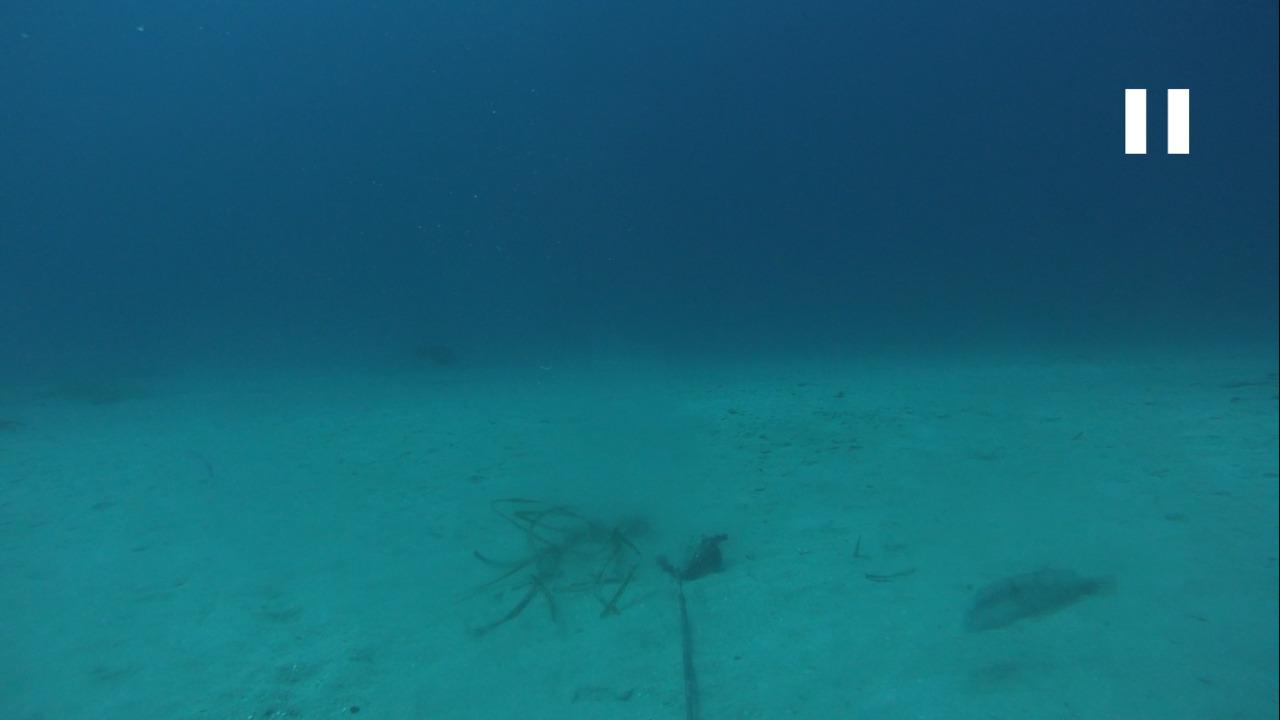raor: (955, 560, 1114, 636)
